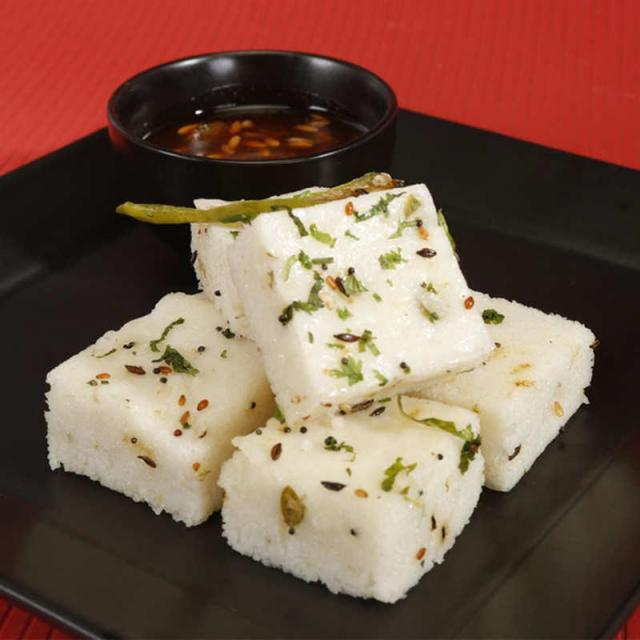dhokla: (32, 167, 606, 599)
